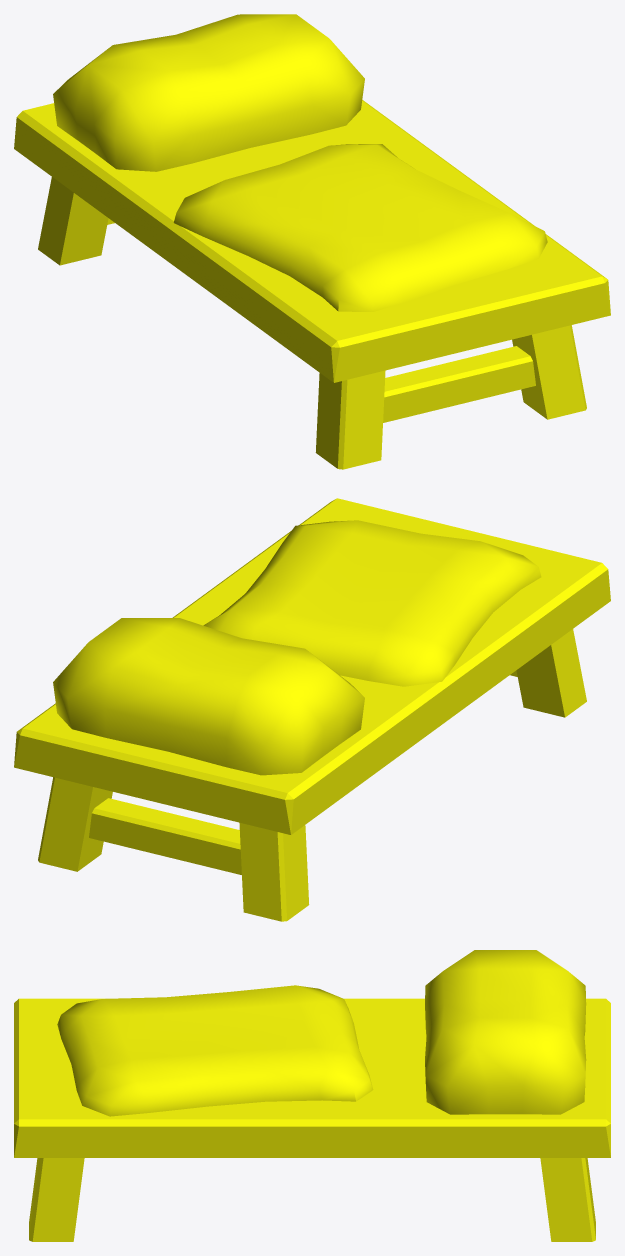
The model's file is kaykit-bed-frame.glb.
3 renders of one model, top to bottom at view 1: azimuth 30°, elevation 25°; view 2: azimuth 150°, elevation 25°; view 3: azimuth 270°, elevation 25°, orthographic. The views are drawn at different scales.
Parts seen in each view (by area): view 1: bed_frame; view 2: bed_frame; view 3: bed_frame.
Boxes of the visible parts, x1,y1,x2,y2 form: bed_frame: [14, 14, 610, 469]; bed_frame: [14, 498, 610, 921]; bed_frame: [14, 950, 610, 1241].
Size of the model in its own units: 1.5 by 1.06 by 3.
